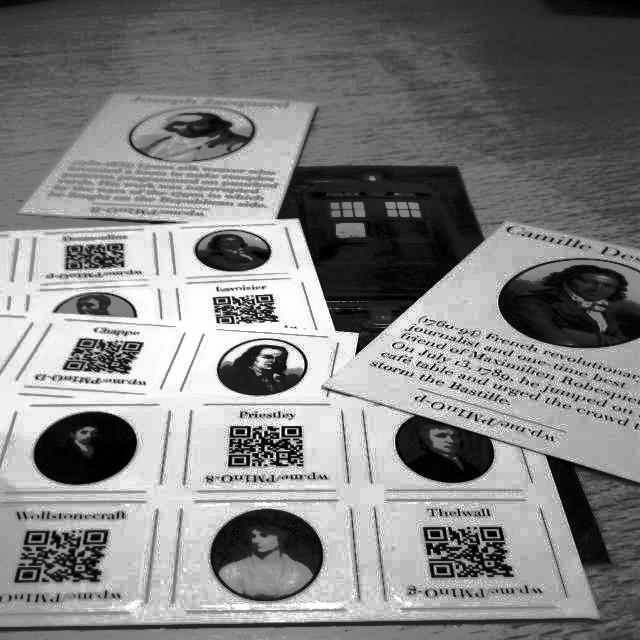qr_code: (14, 530, 108, 582), (423, 527, 514, 577), (228, 426, 303, 466), (63, 338, 143, 374), (213, 294, 279, 324), (65, 244, 124, 270)
